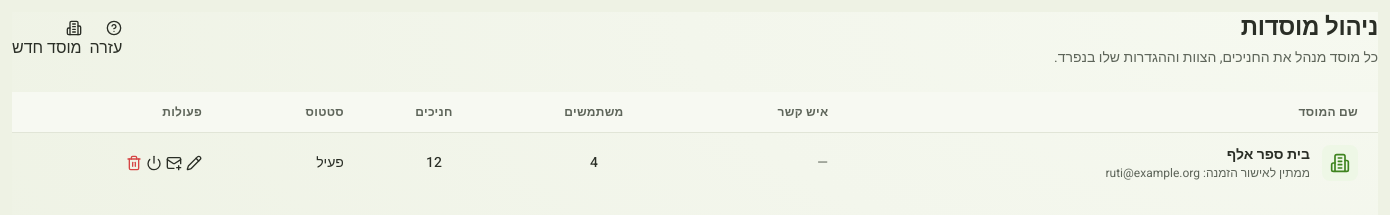
InstitutionsPage — failed actions › reports a failed invitation resend instead of failing silently
Check: the text "בית ספר אלף" is shown, box 1227,144 -> 1310,165
Click the button named "שליחת הזמנה מחדש": (174, 163) 166,155 -> 182,171
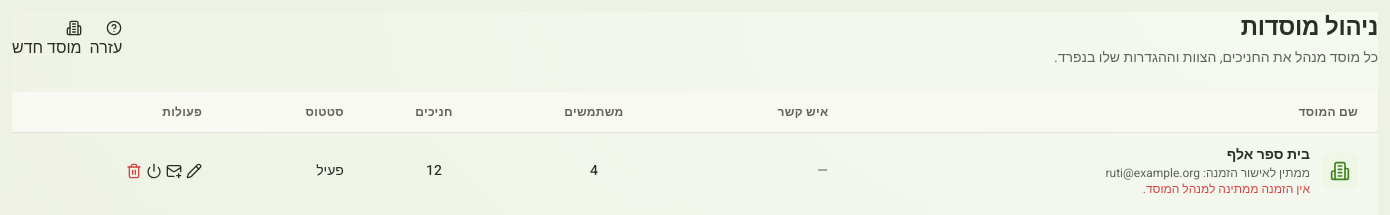
Check: the text "אין הזמנה ממתינה למנהל המוסד." is shown, box 1143,180 -> 1310,198
